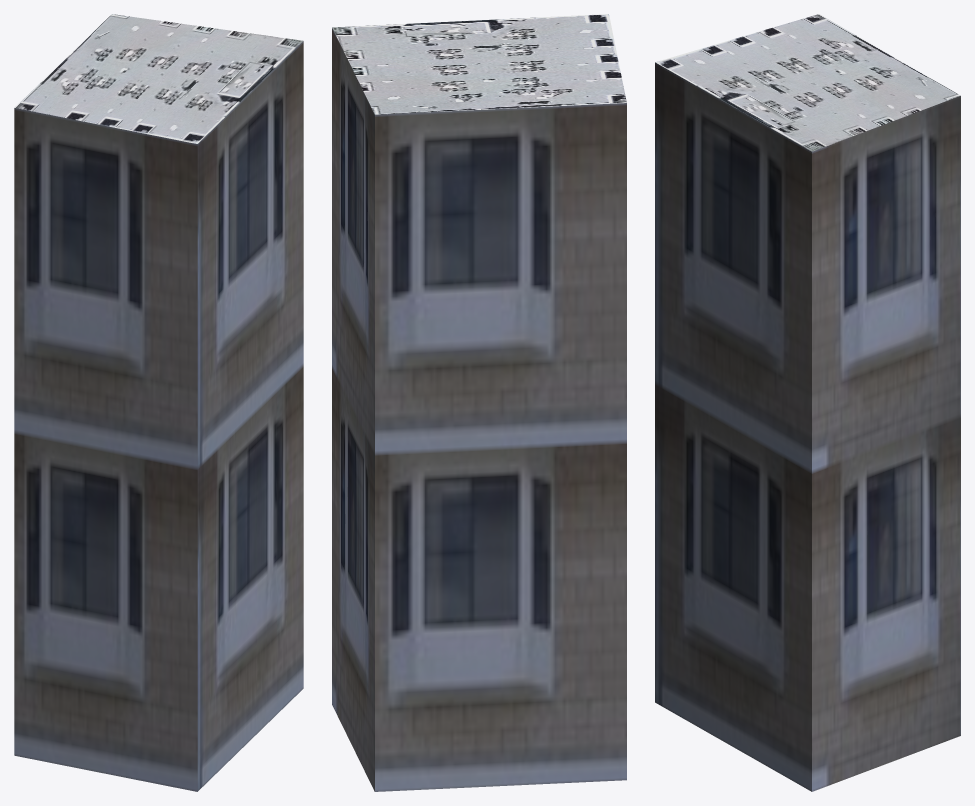
File: ResTex__4769.fbx
The picture shows the model from 3 angles, left to right: view 1: azimuth 30°, elevation 25°; view 2: azimuth 150°, elevation 25°; view 3: azimuth 270°, elevation 25°; orthographic projection. The views are drawn at different scales.
Parts seen in each view (by area): view 1: CityEngineMaterial_3_m, CityEngineMaterial_4_m; view 2: CityEngineMaterial_3_m, CityEngineMaterial_4_m; view 3: CityEngineMaterial_3_m, CityEngineMaterial_4_m.
Part boxes in pixels (x1,y1,x2,y2): CityEngineMaterial_3_m: (14,41,303,791); CityEngineMaterial_4_m: (14,14,303,143); CityEngineMaterial_3_m: (332,28,626,791); CityEngineMaterial_4_m: (332,14,626,114); CityEngineMaterial_3_m: (655,62,960,791); CityEngineMaterial_4_m: (655,14,960,151).
Size of the model in its own units: 2.77 by 6 by 2.6.
2 materials, 2 textured.
